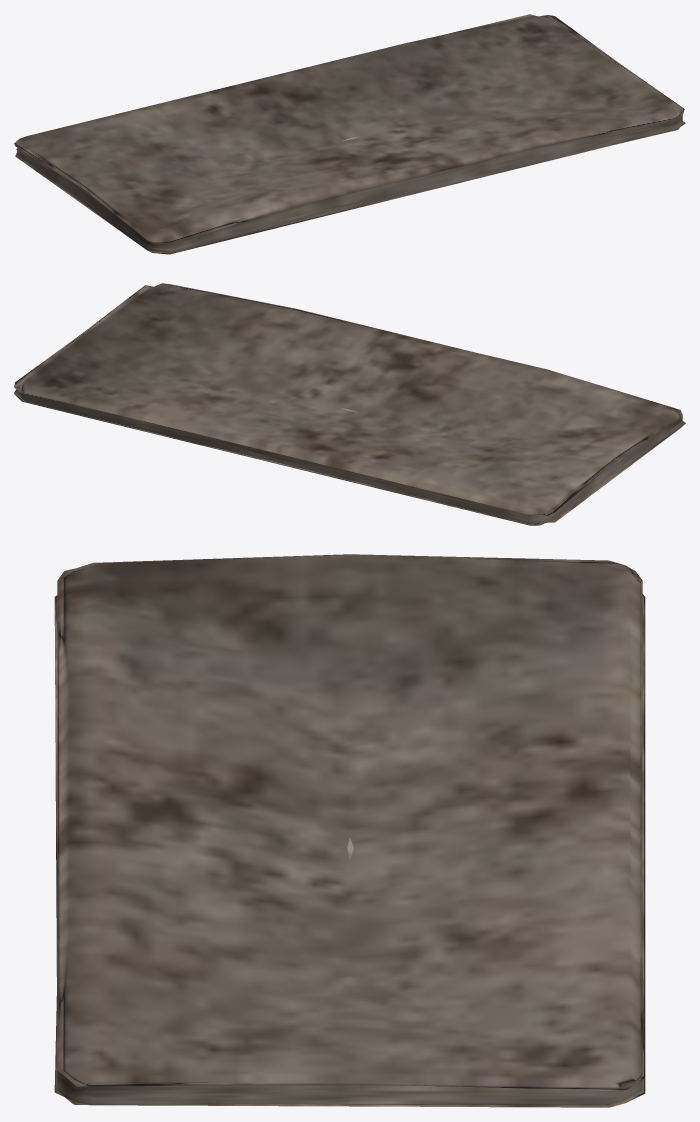
File: bw-mattress.lod1.glb
3 views of the same model, one above another, from view 1: azimuth 30°, elevation 25°; view 2: azimuth 150°, elevation 25°; view 3: azimuth 270°, elevation 25° (orthographic). The views are drawn at different scales.
Visible parts, largest first — view 1: matrac_Old_matrac_0; view 2: matrac_Old_matrac_0; view 3: matrac_Old_matrac_0.
Boxes of the visible parts, left/top/right/bottom form: matrac_Old_matrac_0: left=14, top=14, right=685, bottom=254; matrac_Old_matrac_0: left=14, top=283, right=685, bottom=525; matrac_Old_matrac_0: left=54, top=554, right=645, bottom=1107.
Bounding box in the file's own units: 1.9 × 0.0705 × 0.9.
Materials: 1 (1 with a texture image).
